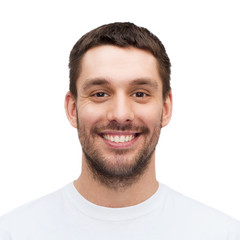young: (67, 26, 180, 167)
